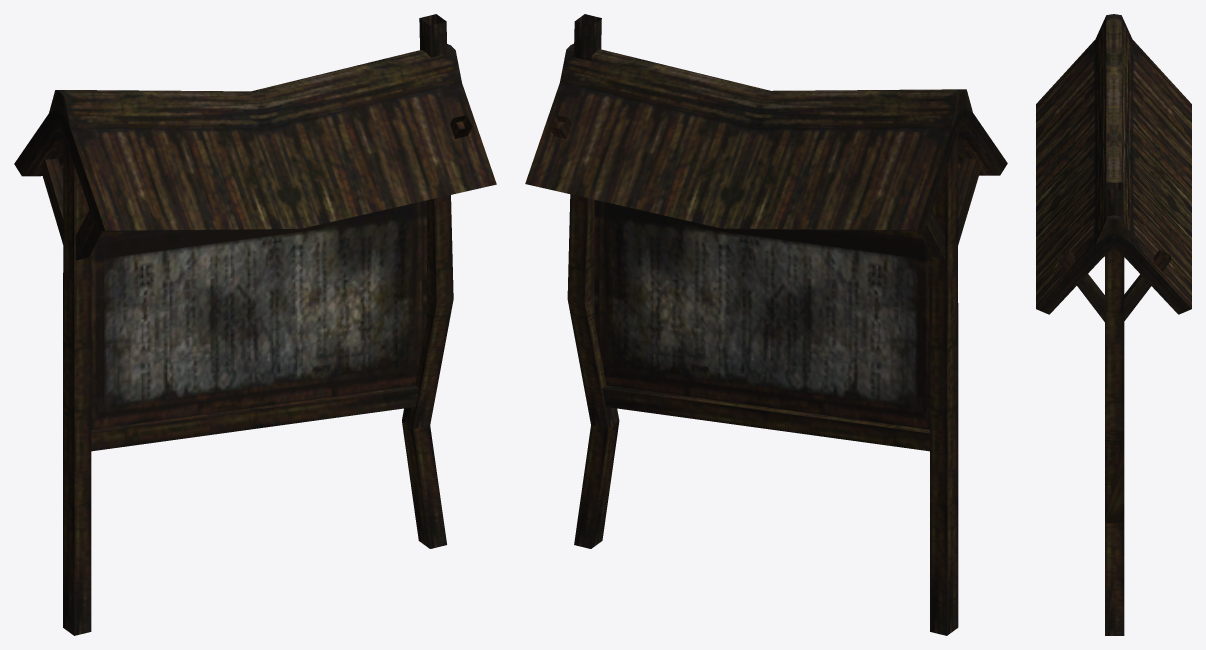
The picture shows the model from 3 angles, left to right: view 1: azimuth 30°, elevation 25°; view 2: azimuth 150°, elevation 25°; view 3: azimuth 270°, elevation 25°; orthographic projection. The views are drawn at different scales.
Parts seen in each view (by area): view 1: Sphere01; view 2: Sphere01; view 3: Sphere01.
Part boxes in pixels (x1,y1,x2,y2): Sphere01: (14, 14, 496, 635); Sphere01: (525, 14, 1007, 635); Sphere01: (1036, 14, 1191, 635).
Size of the model in its own units: 2.27 by 3.01 by 0.9184.
